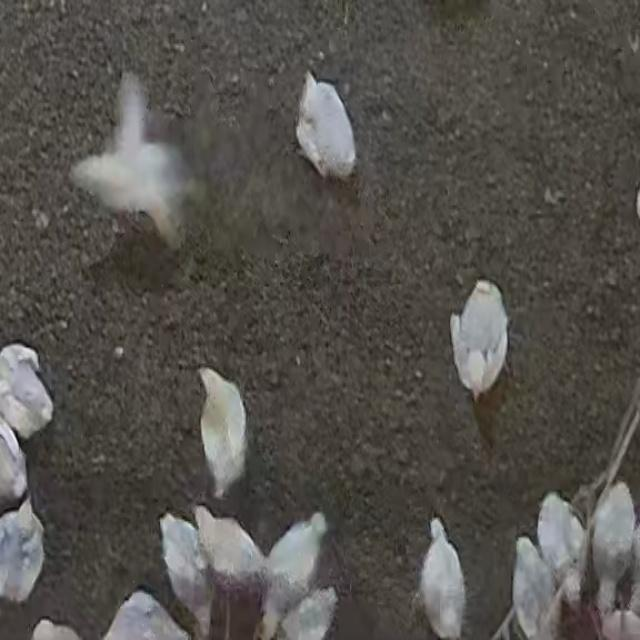chicken: (62, 68, 210, 262), (188, 359, 254, 505), (446, 274, 512, 408), (292, 66, 362, 188), (150, 509, 212, 640), (414, 509, 474, 640), (192, 505, 264, 607), (536, 483, 588, 610), (586, 480, 636, 612), (509, 532, 557, 640)
